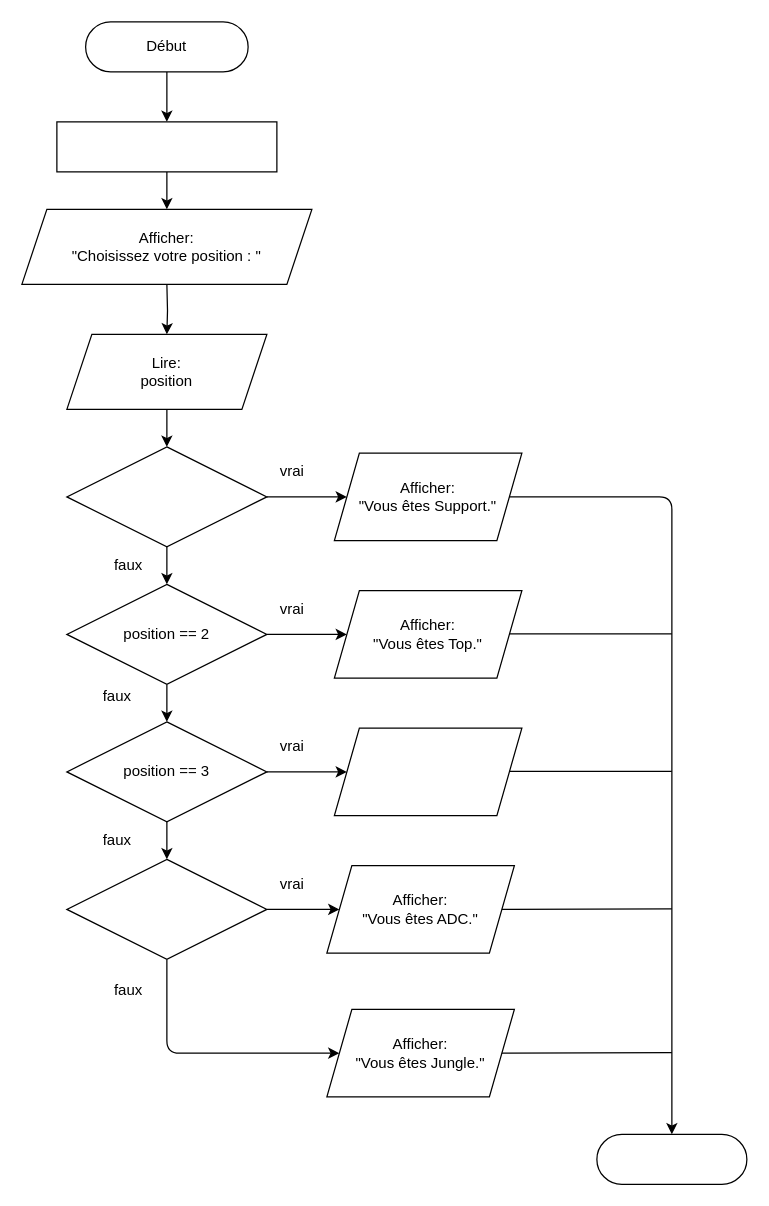
Some shapes in this 769 by 1206 pixel diagram are drawn without their labels. The shapes that lost their labels are listed below. From the top down, each one's box as (x1, y1, x2, y2) in pixels, then its label:
(56, 121, 277, 172): Variables : position
(66, 446, 267, 547): position == 1
(333, 727, 522, 816): Afficher: "Vous êtes Mid."
(66, 858, 267, 959): position == 4
(596, 1133, 747, 1184): Fin
